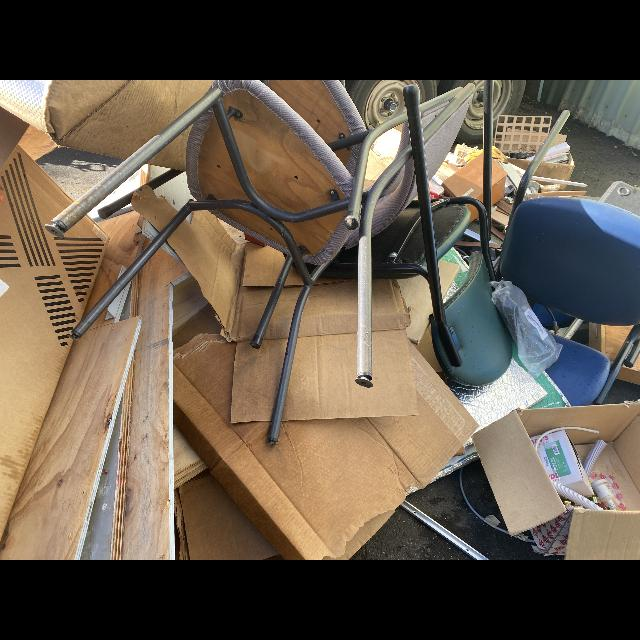Aluminium: (399, 500, 490, 560), (562, 318, 584, 340)
Brass: (553, 322, 559, 334)
Ferrous Metal: (44, 87, 350, 444), (372, 105, 462, 367), (431, 80, 502, 282), (357, 142, 413, 375), (500, 110, 570, 259), (327, 111, 408, 214), (537, 80, 640, 149), (592, 323, 640, 404), (147, 169, 184, 190), (108, 191, 134, 213), (527, 180, 539, 194)
